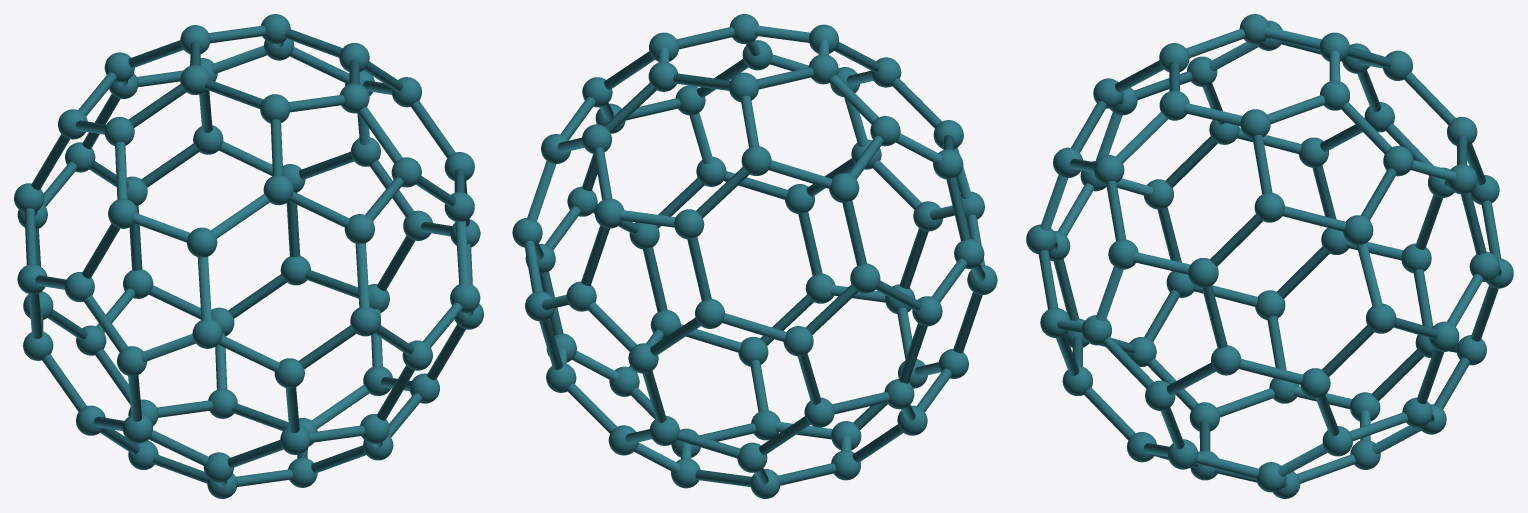
The picture shows the model from 3 angles, left to right: view 1: azimuth 30°, elevation 25°; view 2: azimuth 150°, elevation 25°; view 3: azimuth 270°, elevation 25°; orthographic projection.
Visible parts, largest first — view 1: carbon-bonds, carbon-atoms, soccer-pattern; view 2: carbon-bonds, carbon-atoms, soccer-pattern; view 3: carbon-bonds, carbon-atoms, soccer-pattern.
Boxes of the visible parts, left/top/right/bottom form: carbon-bonds: left=24, top=25, right=473, bottom=486; carbon-atoms: left=14, top=14, right=483, bottom=498; soccer-pattern: left=274, top=157, right=480, bottom=454; carbon-bonds: left=524, top=25, right=985, bottom=486; carbon-atoms: left=512, top=14, right=997, bottom=498; soccer-pattern: left=675, top=40, right=943, bottom=314; carbon-bonds: left=1038, top=27, right=1501, bottom=487; carbon-atoms: left=1080, top=14, right=1513, bottom=498; soccer-pattern: left=1026, top=147, right=1138, bottom=395.
Size of the model in its own units: 0.0732 by 0.0713 by 0.0743.
